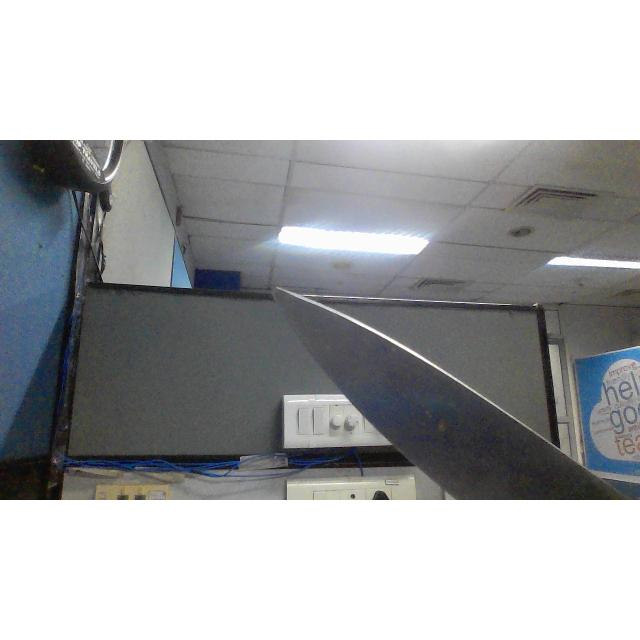Knife: (271, 287, 625, 500)
